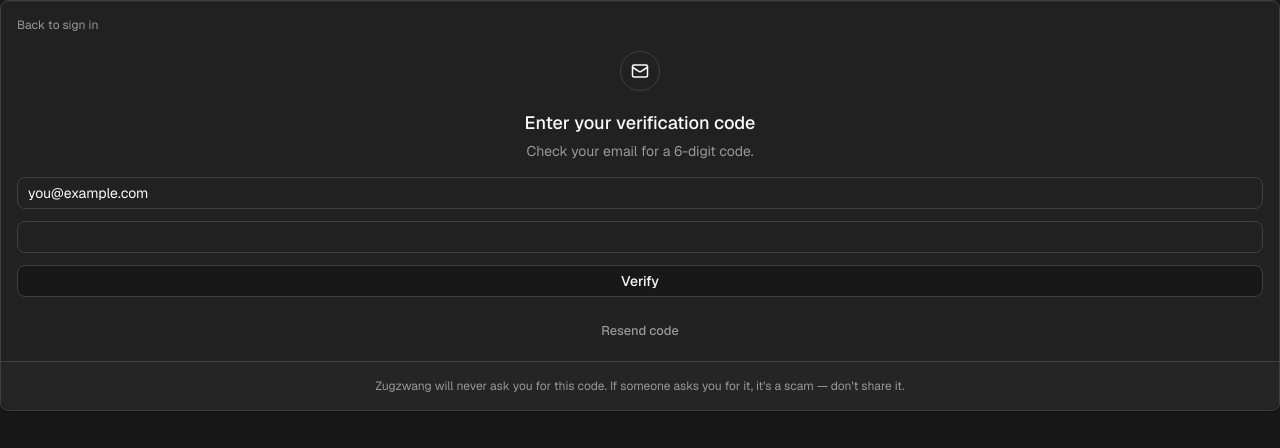
it: AUTH-OTP-DELIVERY fix (b) — resend + back affordance (DRIVER, RED pre-impl) › otp-resend::successful-resend-confirms-via-status-not-a-second-alert
The width and height of the screenshot is (1280, 448).
Step 1. Click the button "Resend code" → (640, 331), box [590, 317, 690, 345]
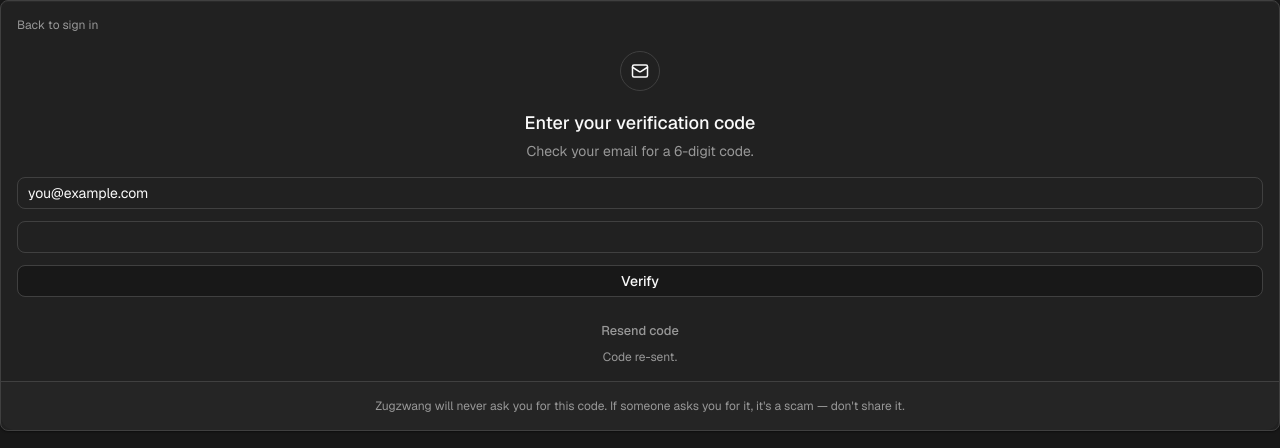
Result: the message "Code re-sent." is shown at [603, 349, 677, 365]
